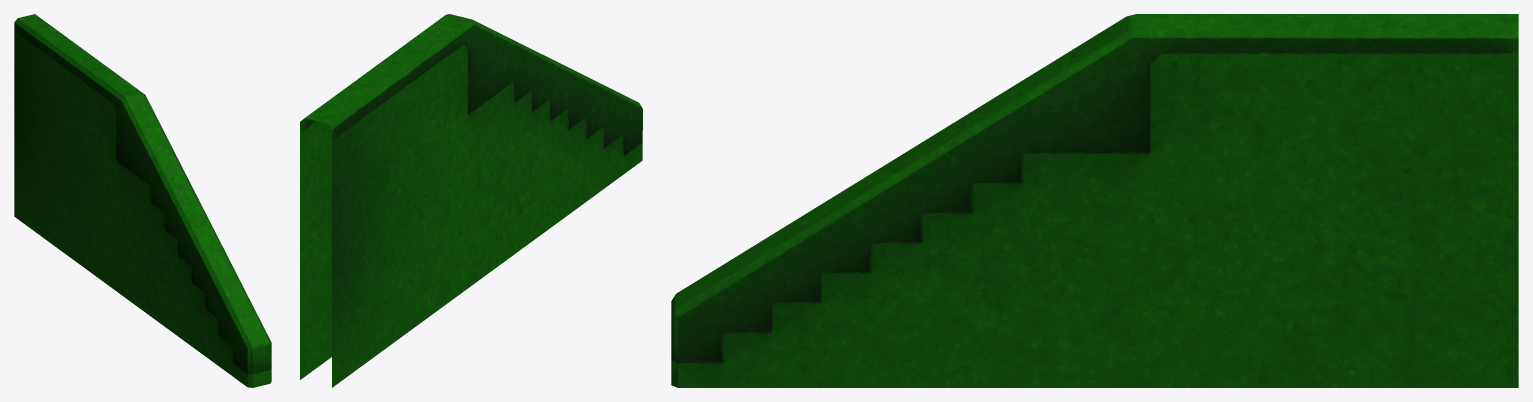
Rendered from Separadores.fbx.
The picture shows the model from 3 angles, left to right: view 1: azimuth 30°, elevation 25°; view 2: azimuth 150°, elevation 25°; view 3: azimuth 270°, elevation 25°; orthographic projection. The views are drawn at different scales.
Parts seen in each view (by area): view 1: separadores3; view 2: separadores3; view 3: separadores3.
Part boxes in pixels (box(x1,y1,x2,y2)): separadores3: box(14, 14, 271, 387); separadores3: box(300, 14, 642, 387); separadores3: box(671, 14, 1518, 387).
Bounding box in the file's own units: 1.51 × 11.86 × 25.6.
